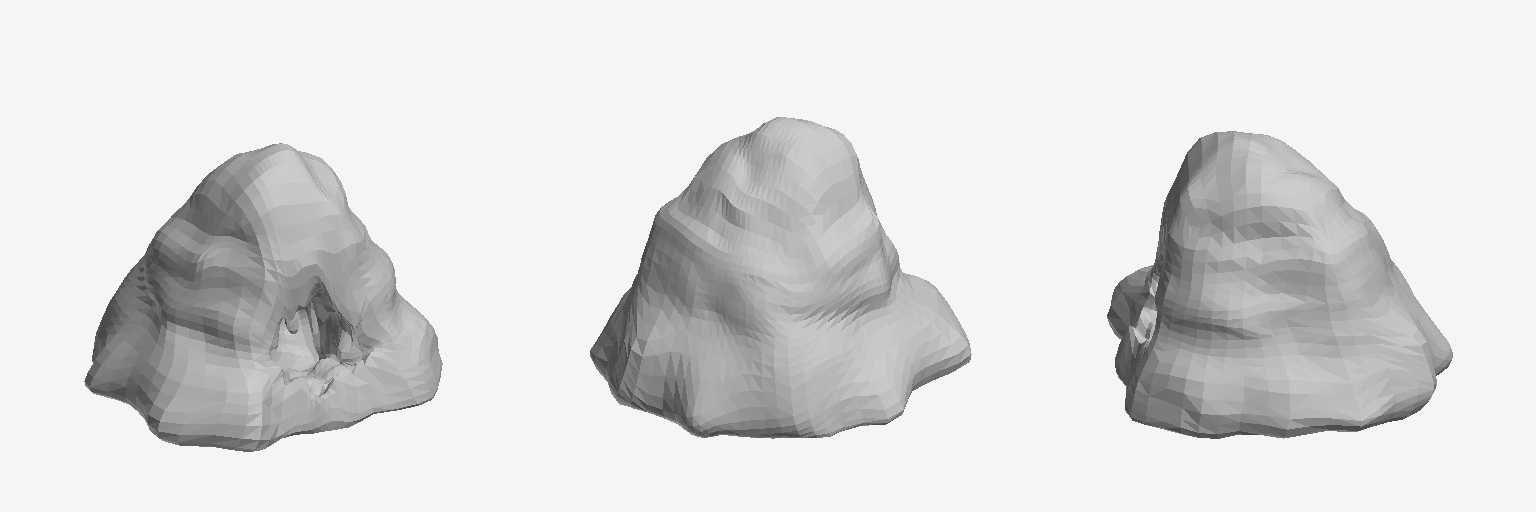
Rendered from Blob_1.OBJ.
3 views of the same model, side by side, from view 1: azimuth 30°, elevation 25°; view 2: azimuth 150°, elevation 25°; view 3: azimuth 270°, elevation 25° (orthographic).
Parts seen in each view (by area): view 1: Group2; view 2: Group2; view 3: Group2.
Part boxes in pixels (x1,y1,x2,y2): Group2: (84,143,442,451); Group2: (590,117,971,438); Group2: (1107,131,1452,438).
Size of the model in its own units: 10.08 by 7.71 by 10.01.